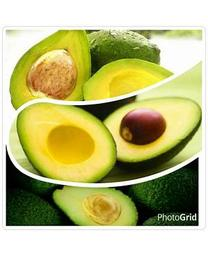avocado: (18, 103, 118, 186), (102, 97, 200, 166), (10, 30, 93, 111), (82, 58, 174, 100), (52, 183, 139, 226)
